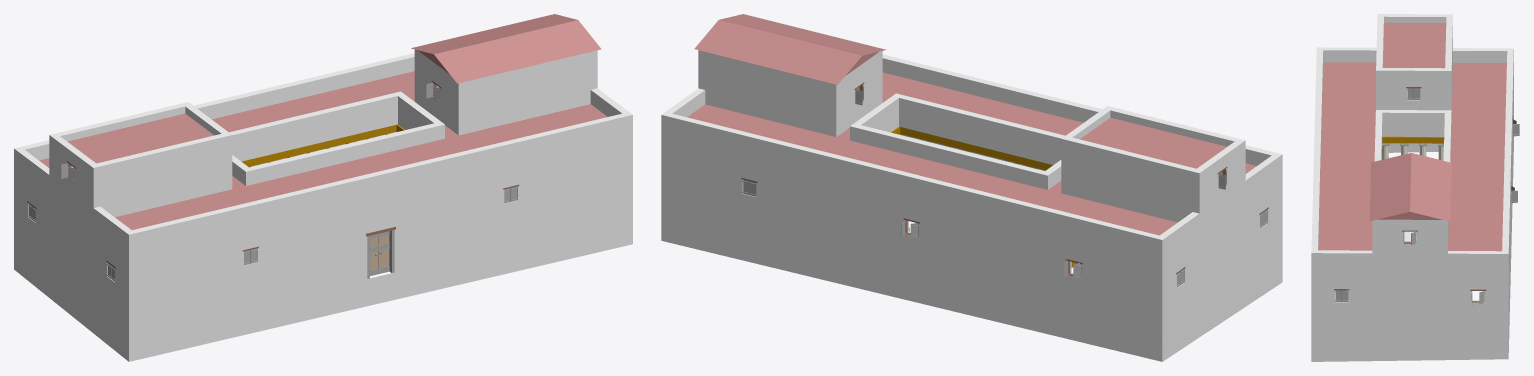
The model's file is LOD_Block_0_67.glb.
The picture shows the model from 3 angles, left to right: view 1: azimuth 30°, elevation 25°; view 2: azimuth 150°, elevation 25°; view 3: azimuth 270°, elevation 25°; orthographic projection. The views are drawn at different scales.
Visible parts, largest first — view 1: _1.956; view 2: _1.956; view 3: _1.956.
Part boxes in pixels (x1,y1,x2,y2): _1.956: [14, 14, 632, 361]; _1.956: [661, 14, 1282, 361]; _1.956: [1311, 14, 1519, 361].
Size of the model in its own units: 37.9 by 12.69 by 15.76.
21 materials, 2 textured.
